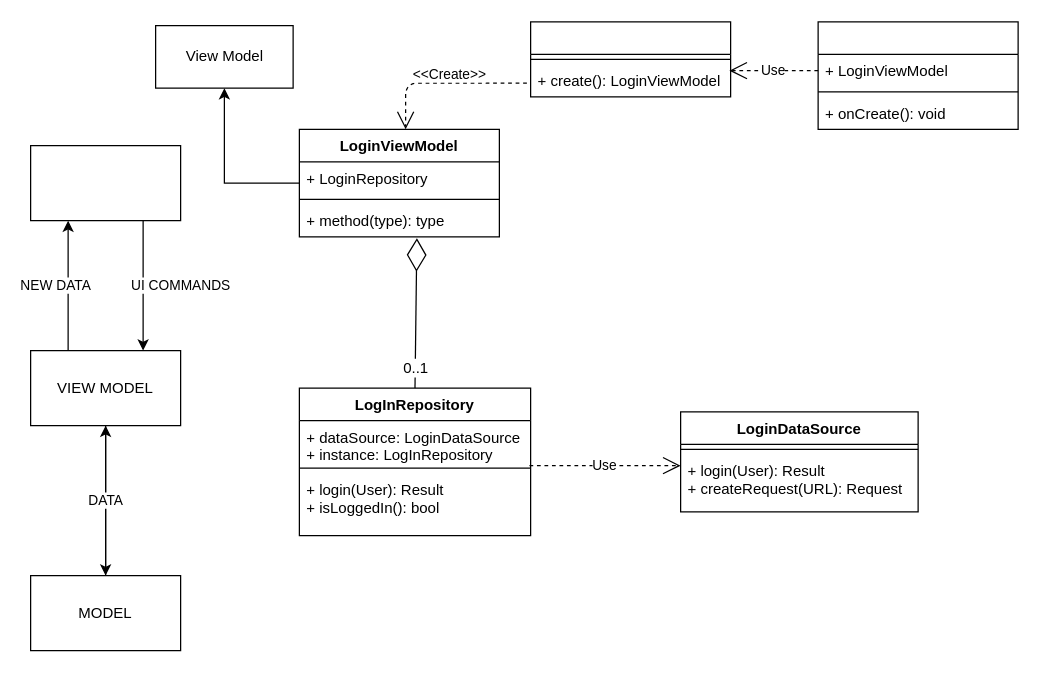
The diagram is 1041 pixels wide and 673 high, and some of its shapes have lost their labels. The shapes that lost their labels are listed below. From the top down, each one's box as (x1, y1, x2, y2) in pixels, then its label:
(529, 21, 731, 97): LoinViewModelFactory
(817, 21, 1018, 129): LoginActivity
(29, 144, 181, 221): VIEW
